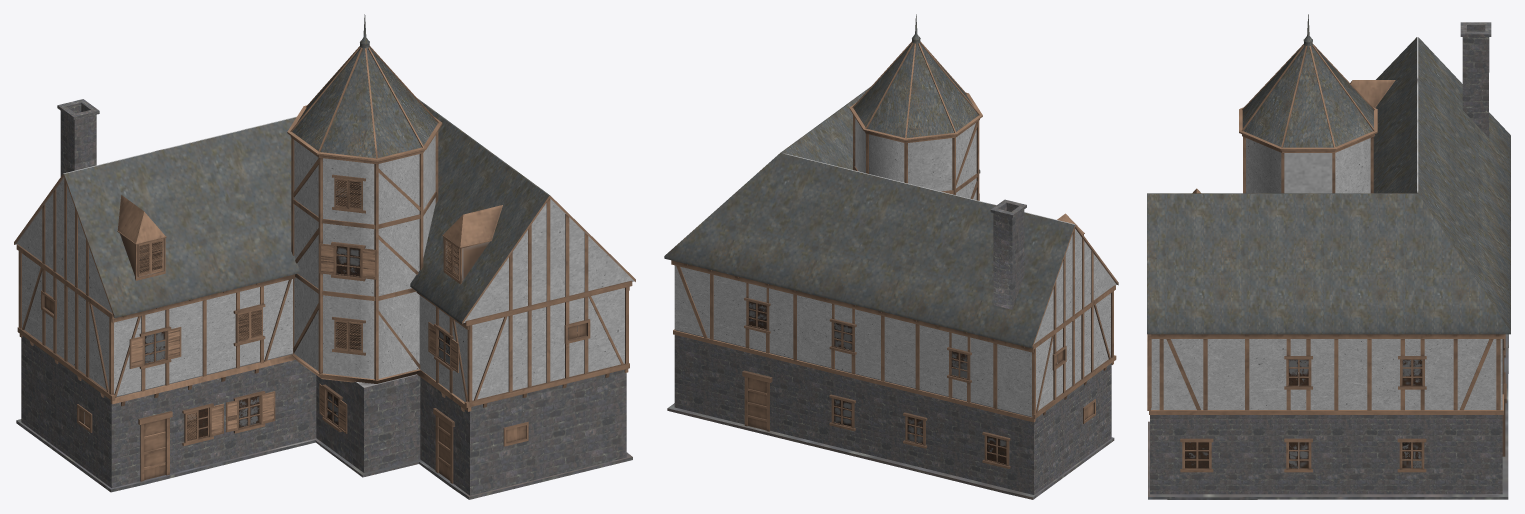
The model's file is House_04.fbx.
3 views of the same model, side by side, from view 1: azimuth 30°, elevation 25°; view 2: azimuth 150°, elevation 25°; view 3: azimuth 270°, elevation 25° (orthographic). The views are drawn at different scales.
Visible parts, largest first — view 1: Medieval_House_04; view 2: Medieval_House_04; view 3: Medieval_House_04.
Part boxes in pixels (<box>): Medieval_House_04: <box>14,14,635,499</box>; Medieval_House_04: <box>664,14,1118,499</box>; Medieval_House_04: <box>1147,14,1510,499</box>.
Bounding box in the file's own units: 1530 × 1461 × 1199.
Materials: 1 (1 with a texture image).
